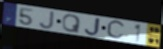1: (133, 23, 144, 44)
5: (19, 7, 35, 26)
C: (106, 19, 127, 41)
J: (83, 17, 102, 37), (39, 11, 56, 30)
Q: (61, 14, 82, 34)
